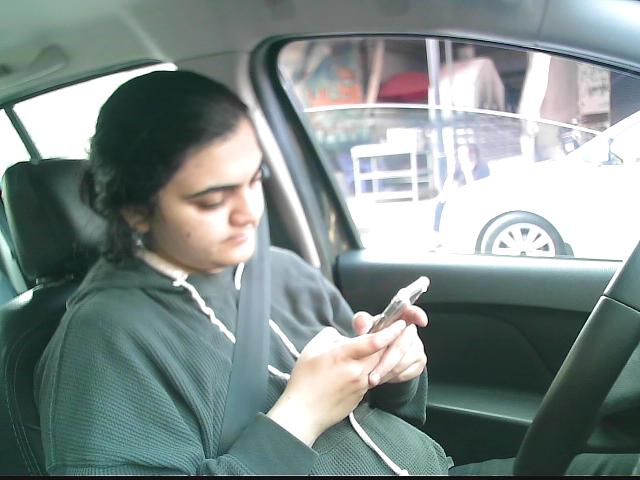PhoneUse: (352, 276, 429, 362)
